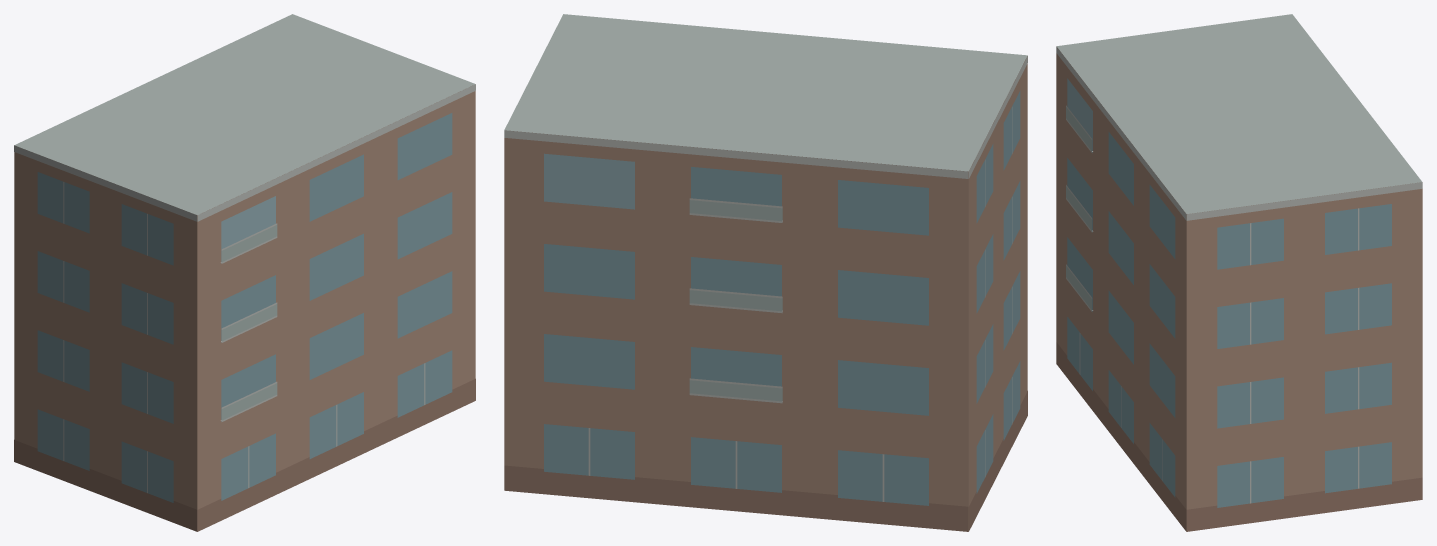
The model's file is survey-upis-32667191.glb.
3 renders of one model, left to right at view 1: azimuth 30°, elevation 25°; view 2: azimuth 150°, elevation 25°; view 3: azimuth 270°, elevation 25°, orthographic. The views are drawn at different scales.
Visible parts, largest first — view 1: survey-upis-32667191.tmp; view 2: survey-upis-32667191.tmp; view 3: survey-upis-32667191.tmp.
Boxes of the visible parts, bbox=[...] form: survey-upis-32667191.tmp: bbox=[14, 14, 475, 531]; survey-upis-32667191.tmp: bbox=[504, 14, 1027, 531]; survey-upis-32667191.tmp: bbox=[1056, 14, 1422, 531].
Bounding box in the file's own units: 15.69 × 11.6 × 12.13.
